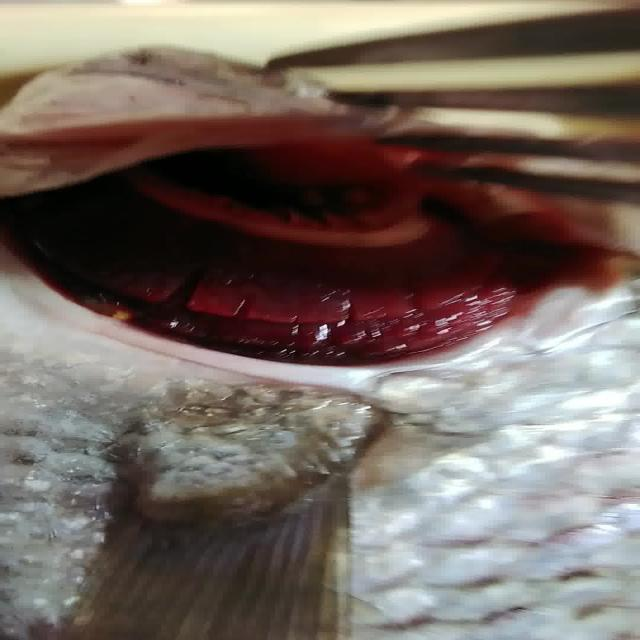Fresh: (8, 122, 610, 384)
